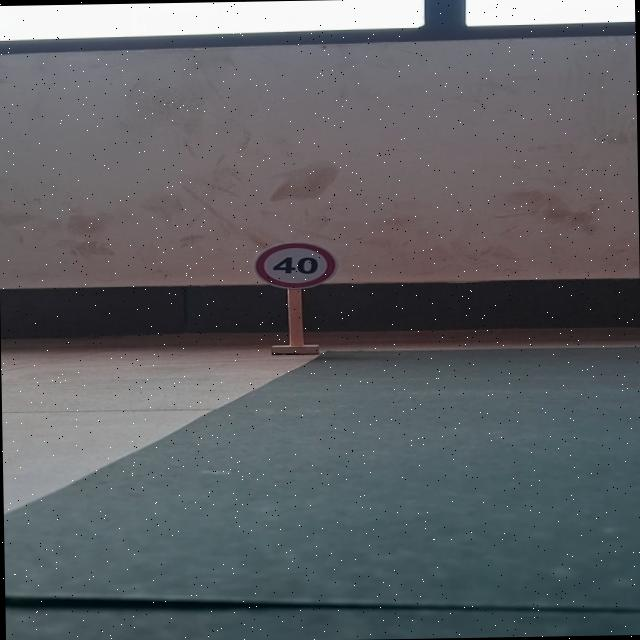Speed40: (246, 239, 341, 291)
